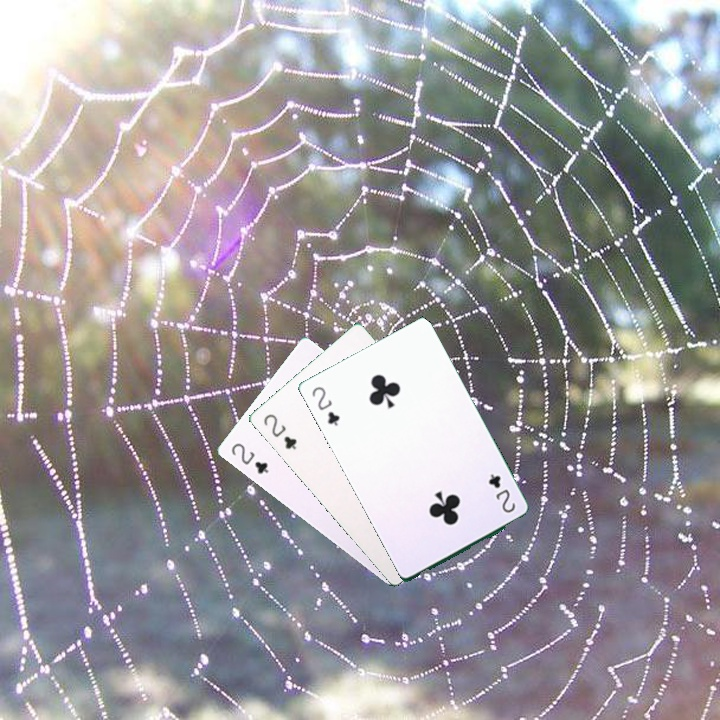2c: (259, 410, 299, 452), (227, 439, 271, 477), (308, 382, 342, 429), (484, 470, 518, 516)
